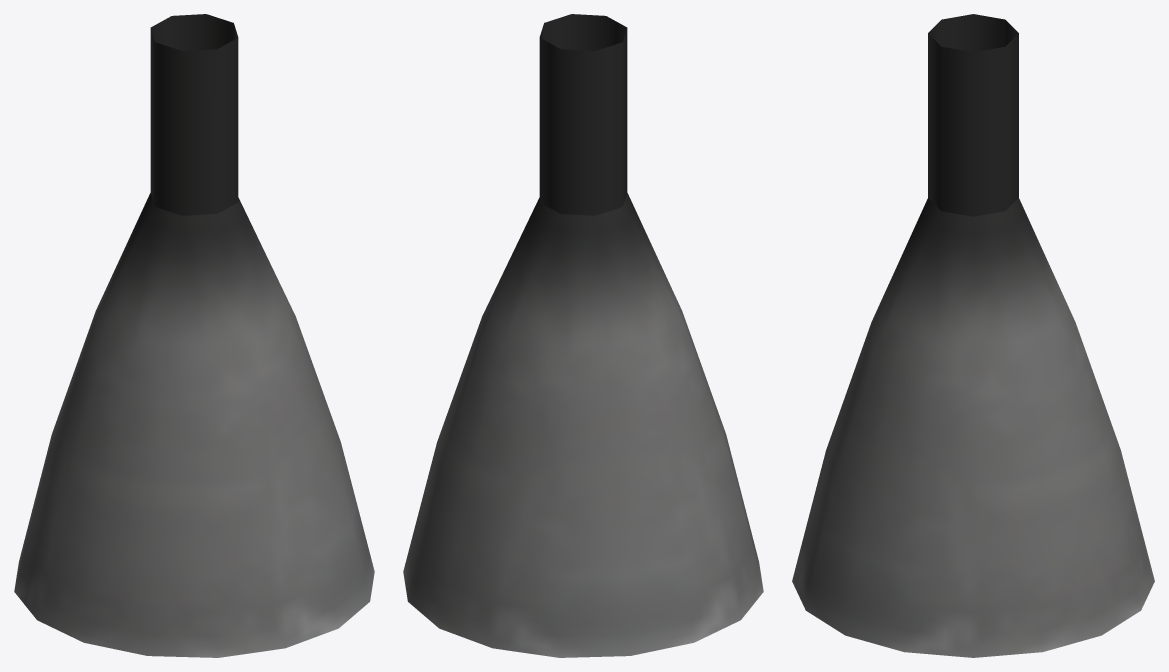
Rendered from tantares_lv_engine_s1p5_3_vernier.obj.
3 renders of one model, left to right at view 1: azimuth 30°, elevation 25°; view 2: azimuth 150°, elevation 25°; view 3: azimuth 270°, elevation 25°, orthographic.
Visible parts, largest first — view 1: tantares_lv_engine_s1p5_3_vernier; view 2: tantares_lv_engine_s1p5_3_vernier; view 3: tantares_lv_engine_s1p5_3_vernier.
Part boxes in pixels (<box>): tantares_lv_engine_s1p5_3_vernier: <box>14,14,374,657</box>; tantares_lv_engine_s1p5_3_vernier: <box>403,14,763,657</box>; tantares_lv_engine_s1p5_3_vernier: <box>792,14,1154,657</box>.
Bounding box in the file's own units: 0.15 × 0.25 × 0.15.
